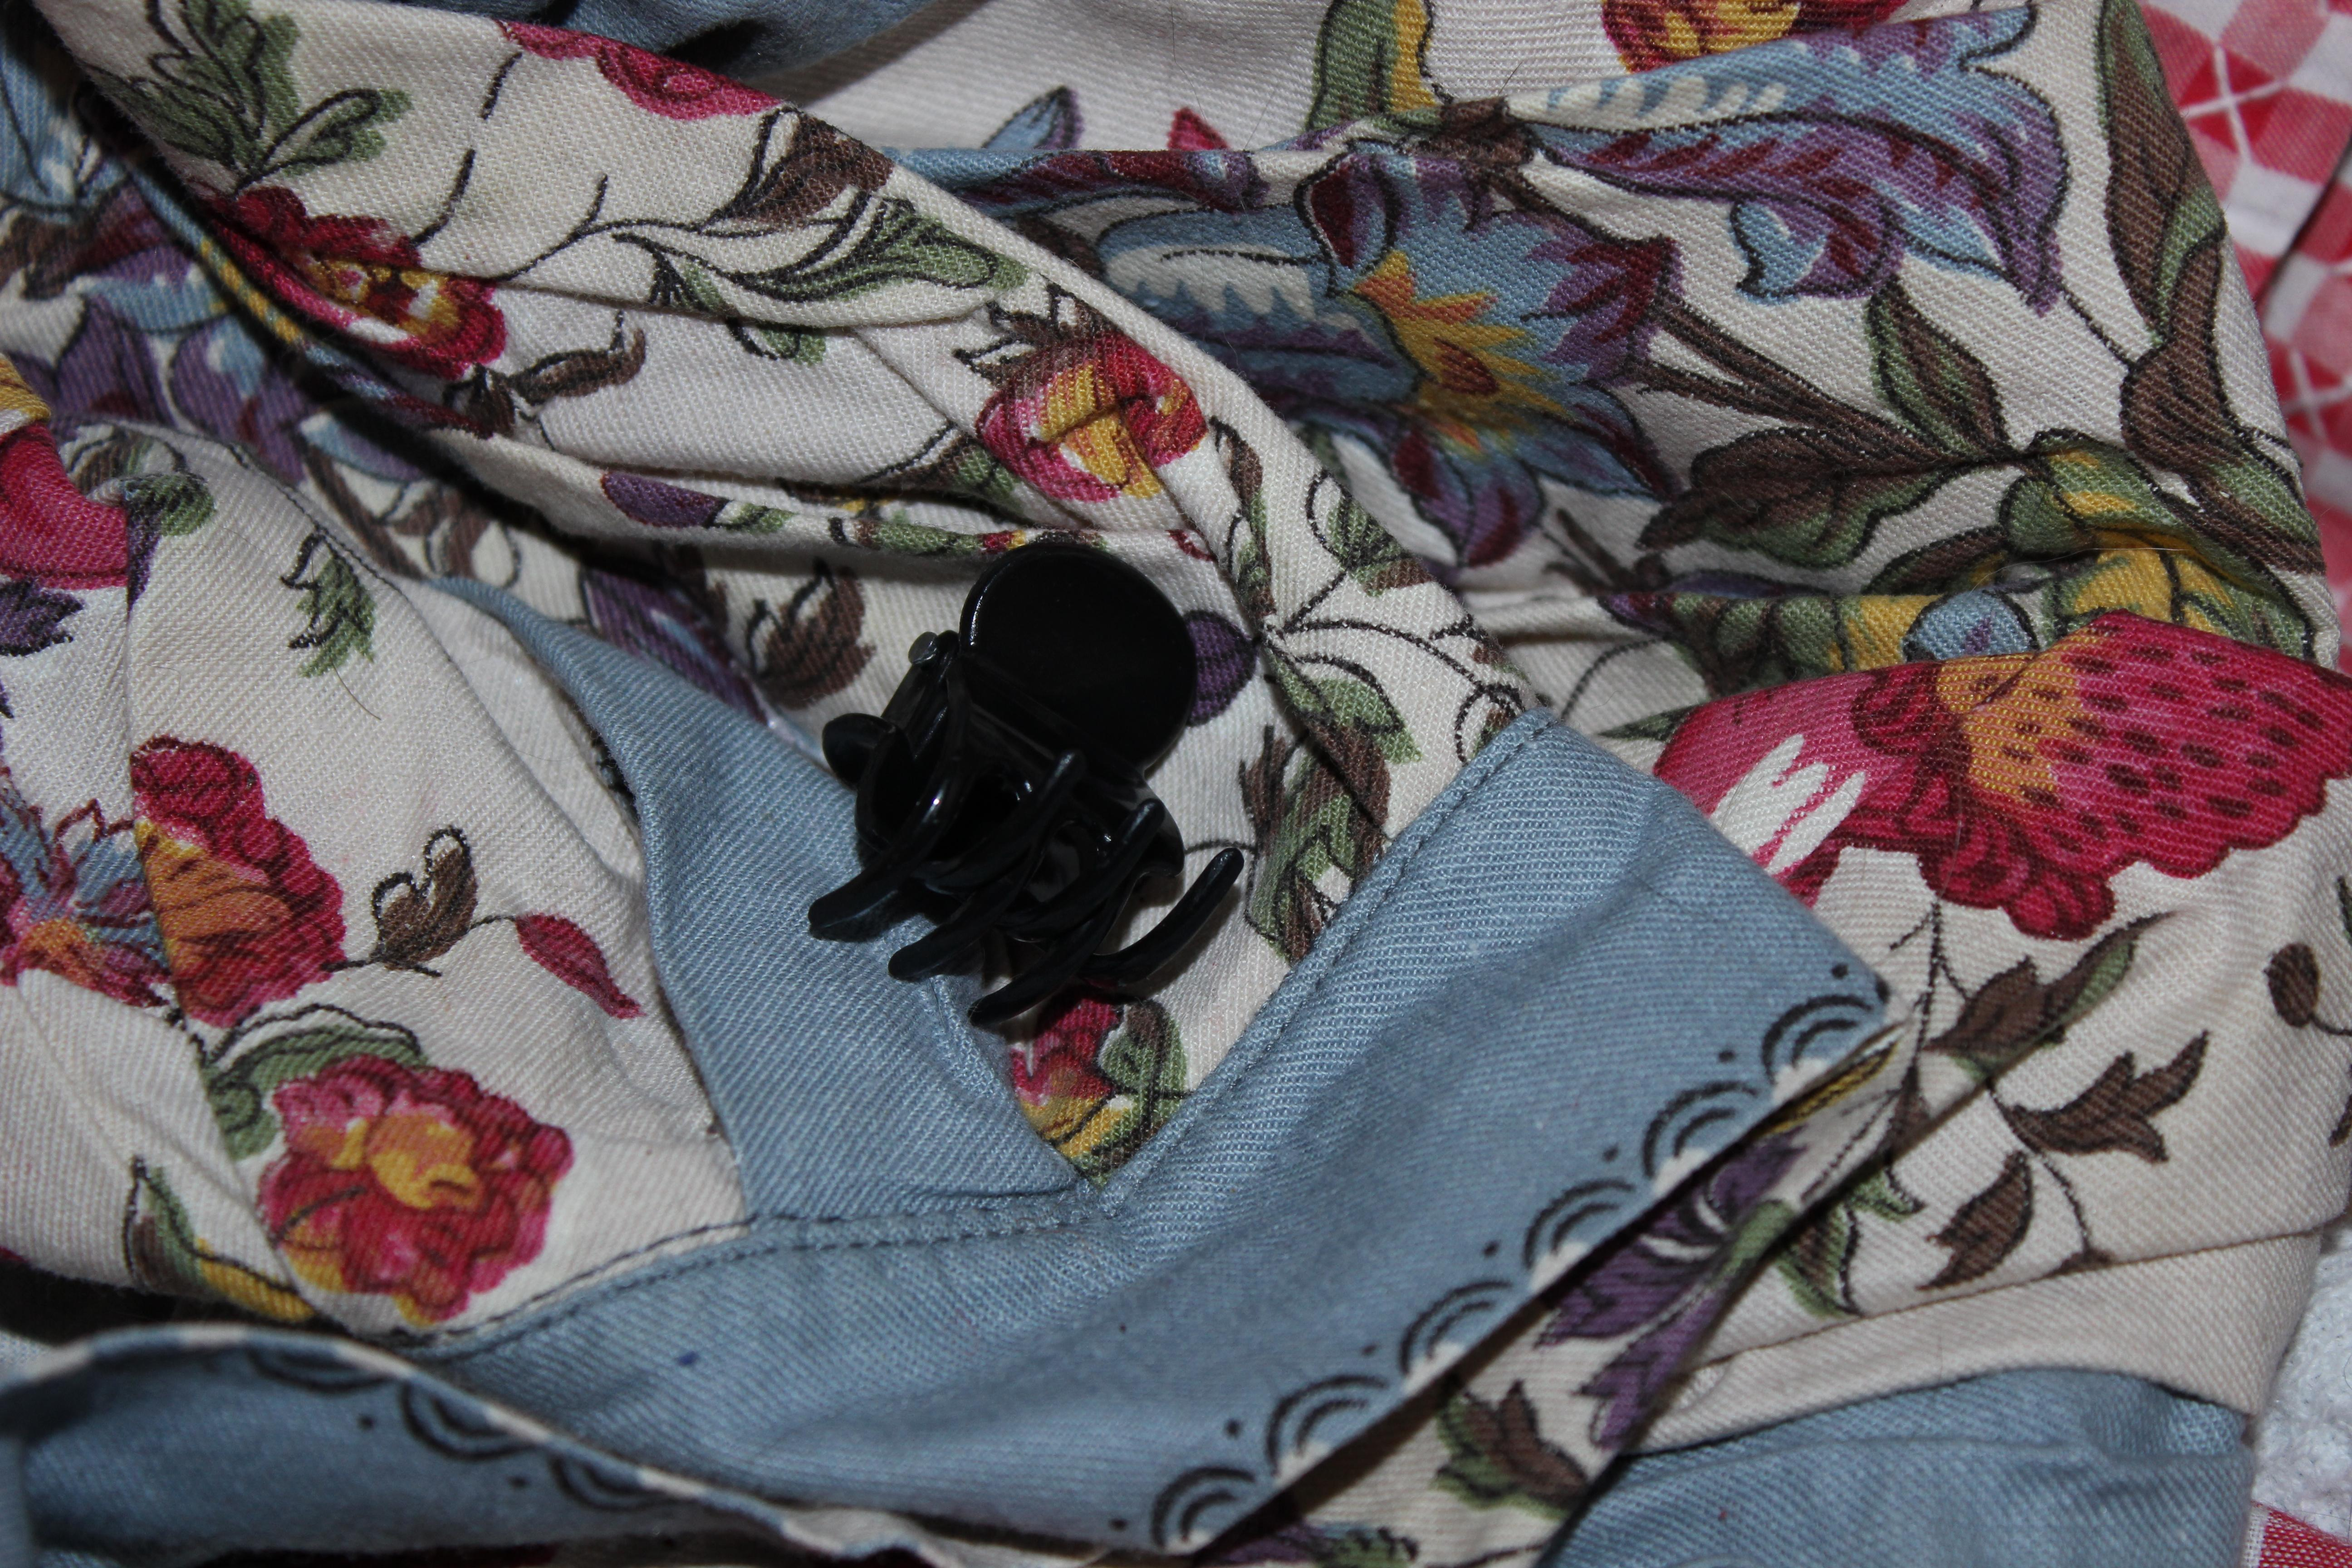hairClip: (798, 522, 1293, 1052)
